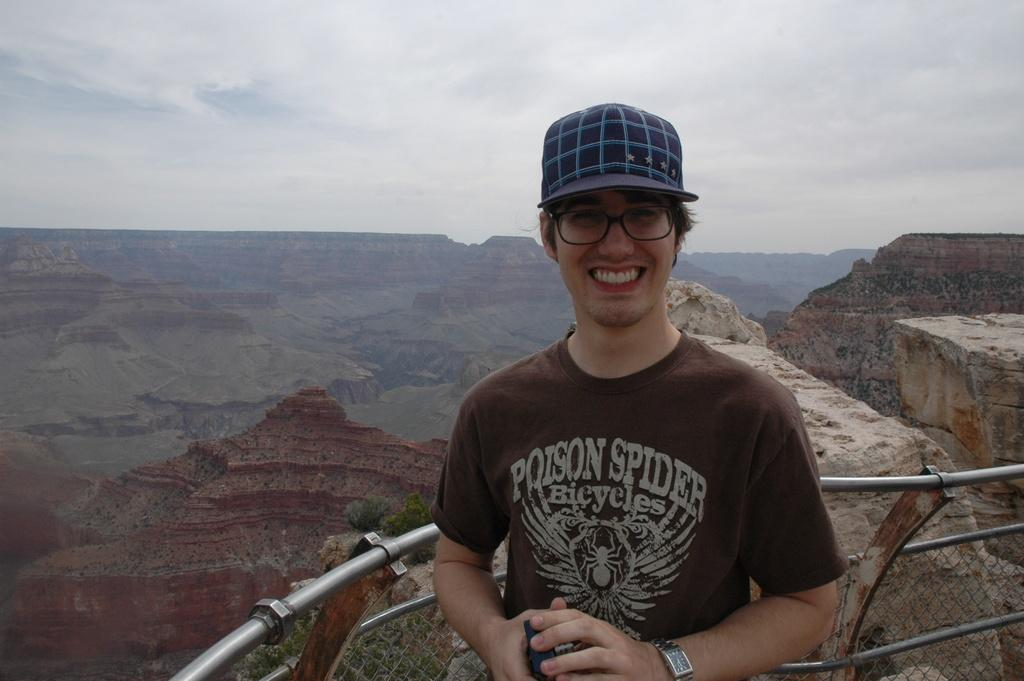Hat: (536, 98, 696, 219)
